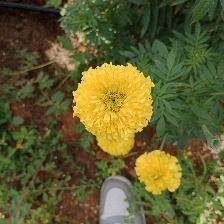marigold: (76, 62, 155, 140)
